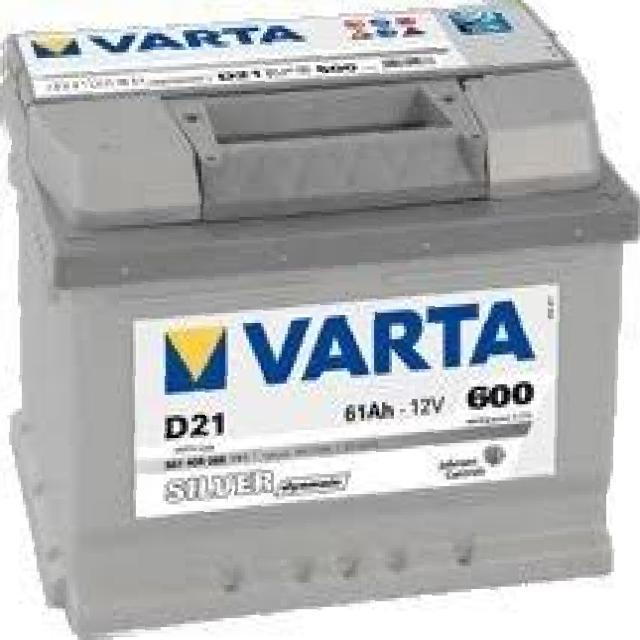Battery: (0, 10, 640, 640)
